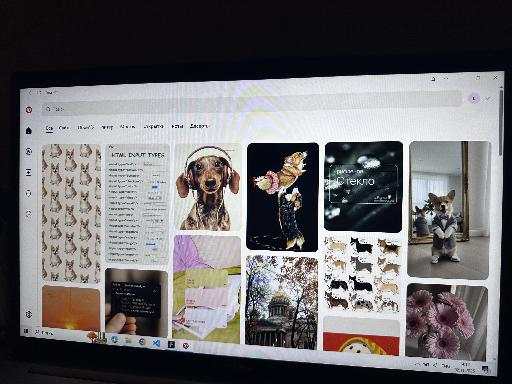pinterest: (22, 93, 503, 361)
